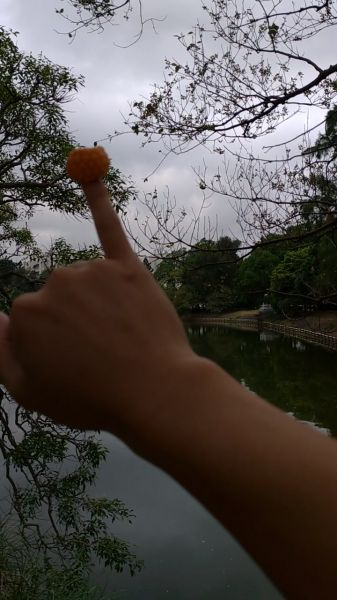eggs: (65, 148, 110, 182)
